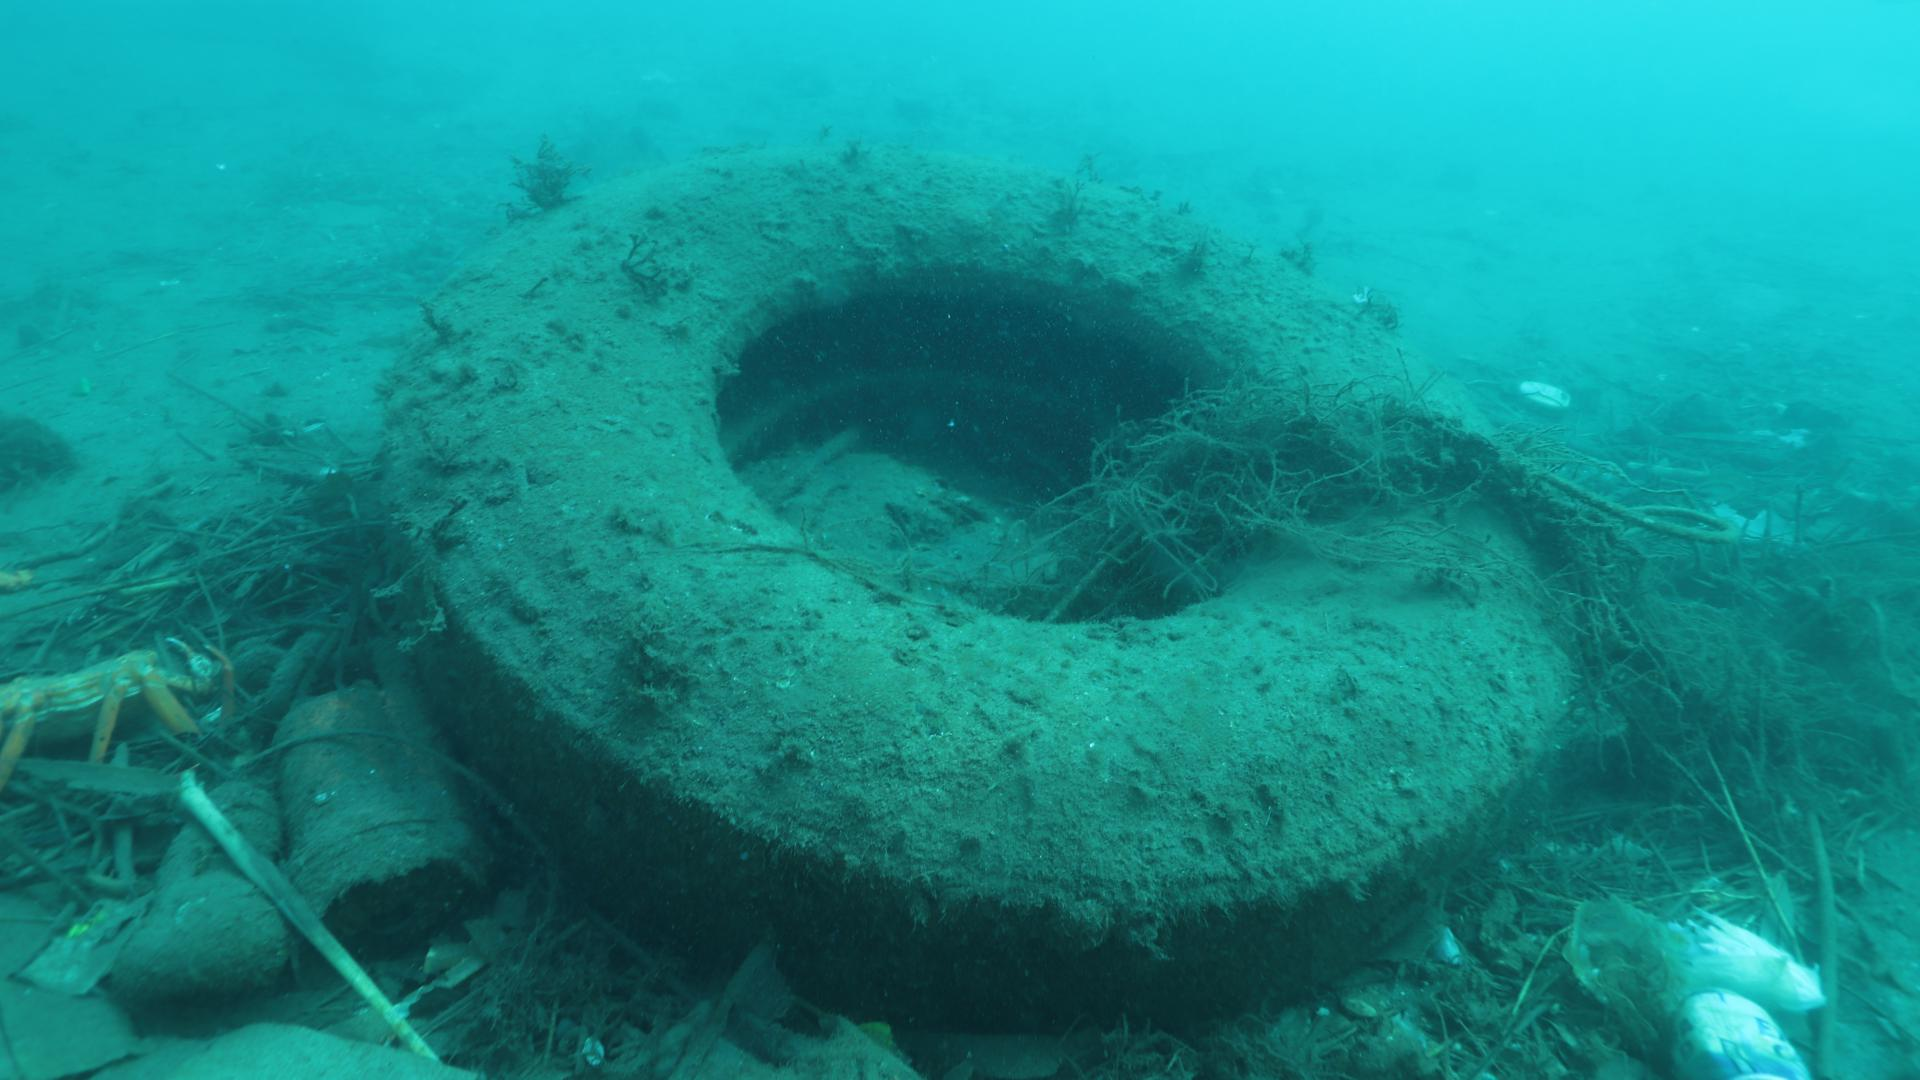tire: (385, 141, 1572, 1044)
